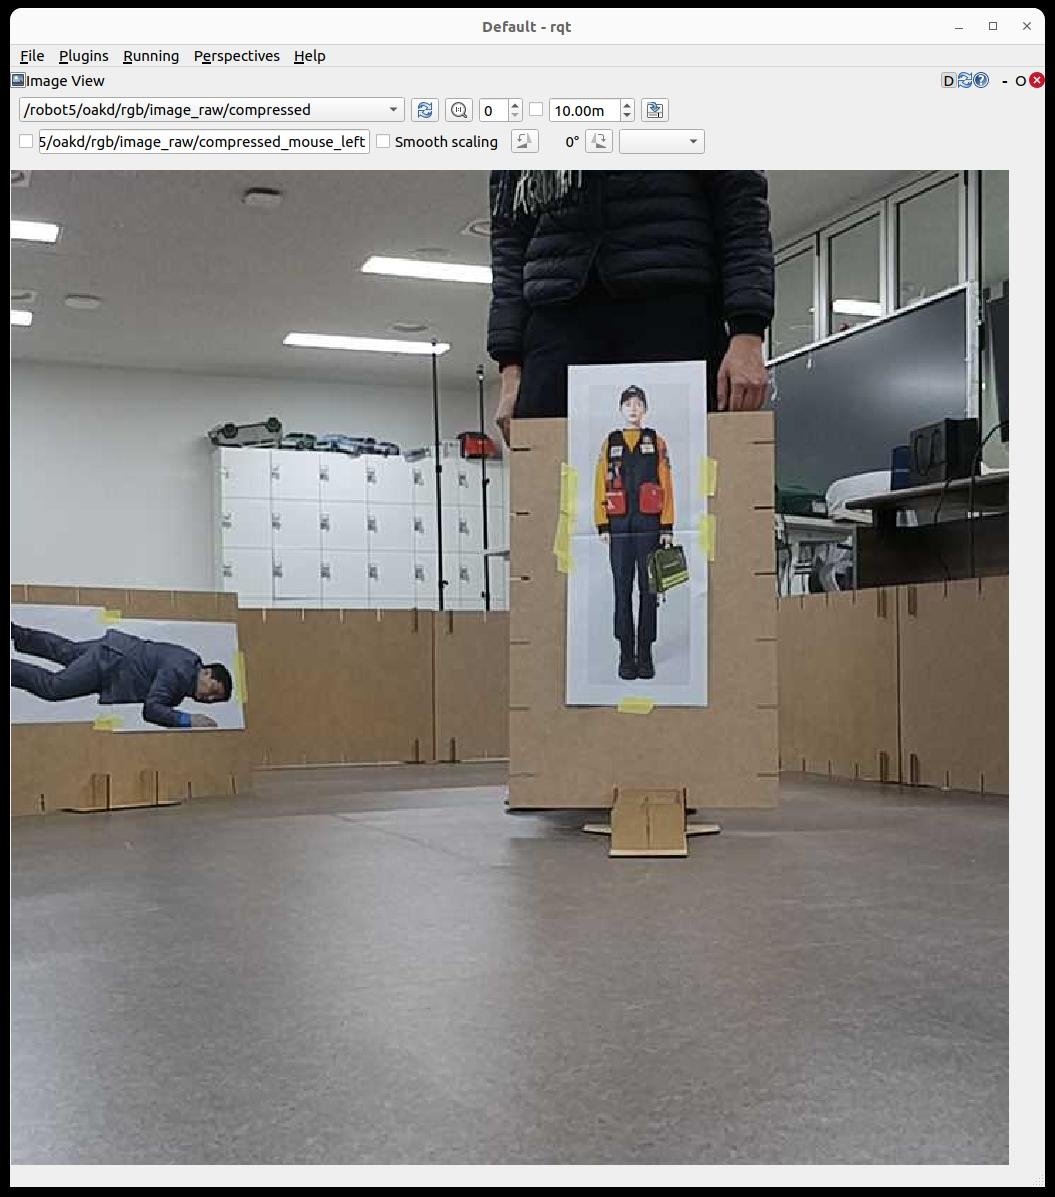Patient: (11, 623, 232, 728)
Responder: (595, 386, 673, 679)
